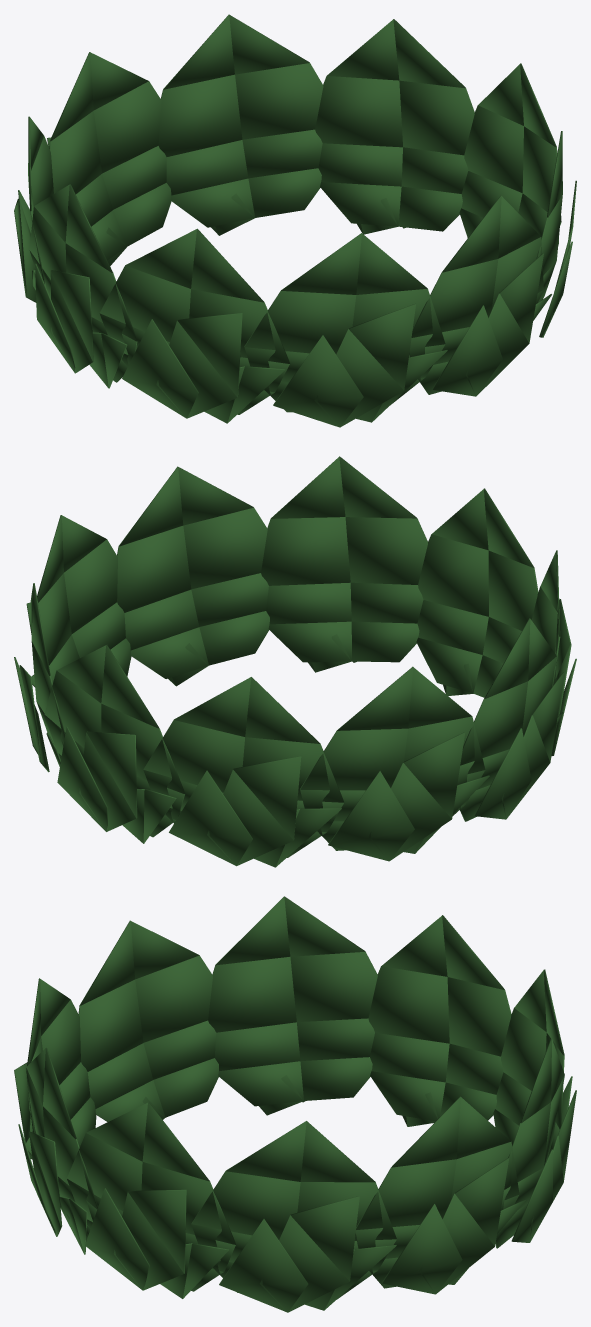
The picture shows the model from 3 angles, top to bottom: view 1: azimuth 30°, elevation 25°; view 2: azimuth 150°, elevation 25°; view 3: azimuth 270°, elevation 25°; orthographic projection.
Parts seen in each view (by area): view 1: Flower_024_Base_Material_0_001_016, Flower_024_Base_Material_0_001_011, Flower_024_Base_Material_0_001_017, Flower_024_Base_Material_0_001_018, Flower_024_Base_Material_0_001_015, Flower_024_Base_Material_0_001, Flower_024_Base_Material_0_001_014, Flower_024_Base_Material_0_001_012, Flower_024_Base_Material_0_001_013, Flower_024_Base_Material_0_001_010; view 2: Flower_024_Base_Material_0_001, Flower_024_Base_Material_0_001_010, Flower_024_Base_Material_0_001_015, Flower_024_Base_Material_0_001_013, Flower_024_Base_Material_0_001_017, Flower_024_Base_Material_0_001_016, Flower_024_Base_Material_0_001_014, Flower_024_Base_Material_0_001_012, Flower_024_Base_Material_0_001_011, Flower_024_Base_Material_0_001_018; view 3: Flower_024_Base_Material_0_001_014, Flower_024_Base_Material_0_001_012, Flower_024_Base_Material_0_001_013, Flower_024_Base_Material_0_001_018, Flower_024_Base_Material_0_001_010, Flower_024_Base_Material_0_001_011, Flower_024_Base_Material_0_001_016, Flower_024_Base_Material_0_001, Flower_024_Base_Material_0_001_015, Flower_024_Base_Material_0_001_017.
Boxes of the visible parts, box(x1,y1,x2,y2) form: Flower_024_Base_Material_0_001_016: box(158, 14, 323, 235); Flower_024_Base_Material_0_001_011: box(315, 19, 474, 234); Flower_024_Base_Material_0_001_017: box(244, 233, 447, 427); Flower_024_Base_Material_0_001_018: box(99, 228, 290, 423); Flower_024_Base_Material_0_001_015: box(47, 52, 171, 265); Flower_024_Base_Material_0_001: box(409, 195, 551, 396); Flower_024_Base_Material_0_001_014: box(29, 184, 137, 388); Flower_024_Base_Material_0_001_012: box(459, 63, 561, 238); Flower_024_Base_Material_0_001_013: box(14, 116, 53, 302); Flower_024_Base_Material_0_001_010: box(536, 131, 576, 337); Flower_024_Base_Material_0_001: box(261, 456, 427, 672); Flower_024_Base_Material_0_001_010: box(117, 466, 269, 686); Flower_024_Base_Material_0_001_015: box(143, 677, 344, 867); Flower_024_Base_Material_0_001_013: box(300, 666, 489, 861); Flower_024_Base_Material_0_001_017: box(416, 488, 538, 697); Flower_024_Base_Material_0_001_016: box(44, 645, 185, 843); Flower_024_Base_Material_0_001_014: box(457, 618, 564, 821); Flower_024_Base_Material_0_001_012: box(26, 515, 131, 687); Flower_024_Base_Material_0_001_011: box(14, 583, 65, 772); Flower_024_Base_Material_0_001_018: box(531, 550, 576, 756); Flower_024_Base_Material_0_001_014: box(208, 896, 377, 1115); Flower_024_Base_Material_0_001_012: box(191, 1121, 396, 1312); Flower_024_Base_Material_0_001_013: box(368, 915, 511, 1126); Flower_024_Base_Material_0_001_018: box(78, 920, 218, 1121); Flower_024_Base_Material_0_001_010: box(67, 1102, 236, 1298); Flower_024_Base_Material_0_001_011: box(355, 1096, 525, 1294); Flower_024_Base_Material_0_001_016: box(495, 1039, 576, 1248); Flower_024_Base_Material_0_001: box(18, 1047, 97, 1254); Flower_024_Base_Material_0_001_015: box(493, 969, 572, 1159); Flower_024_Base_Material_0_001_017: box(14, 978, 96, 1159).
Size of the model in its own units: 0.1951 by 0.0783 by 0.1953.
Materials: 10 (10 with a texture image).
